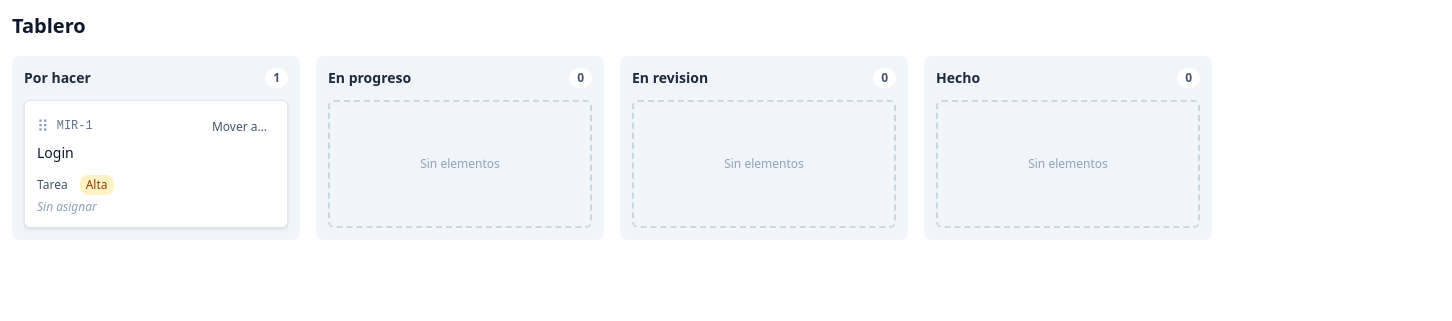
Test: KanbanBoard › mover tarjetas con el menu "Mover a…" (MIR-19) › un movimiento exitoso posterior limpia el error anterior
This screenshot has width=1452, height=321.
Click the button "Mover a…". click: (239, 127)
box: [204,115,275,139]
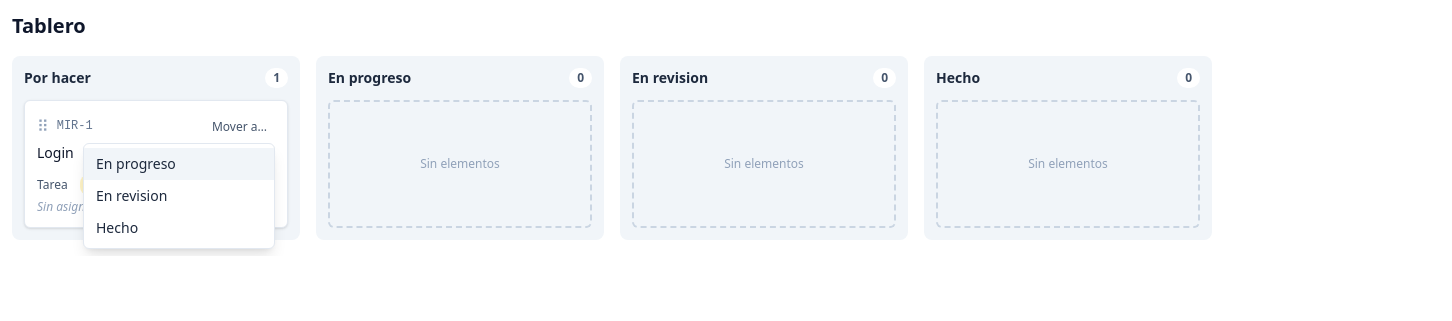
Click the menu item "Hecho". click: (179, 228)
box: [84,212,274,244]
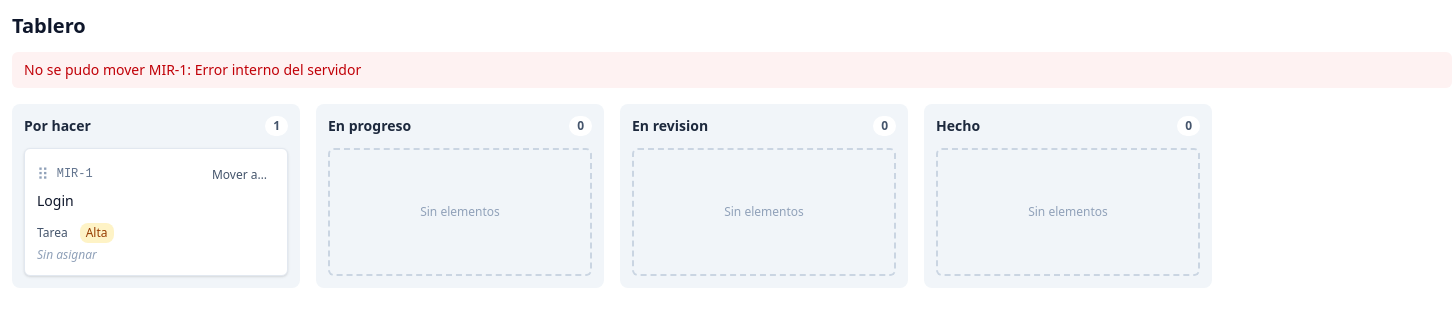
Expected: the message "No se pudo mover MIR-1: Error interno del servidor" is shown, [12,52,1451,88]
Click the button "Mover a…". click: (239, 175)
box: [204,163,275,187]
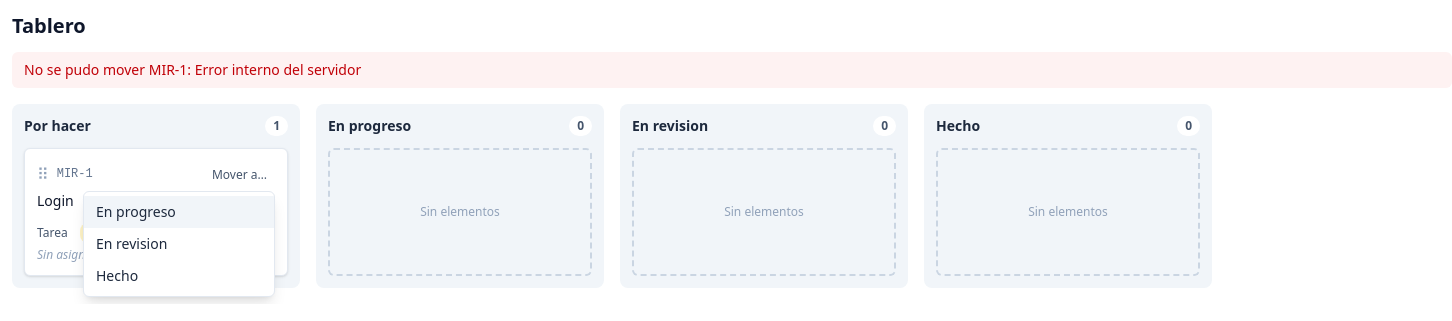
Click the menu item "En progreso". click: (179, 212)
box: [84,196,274,228]
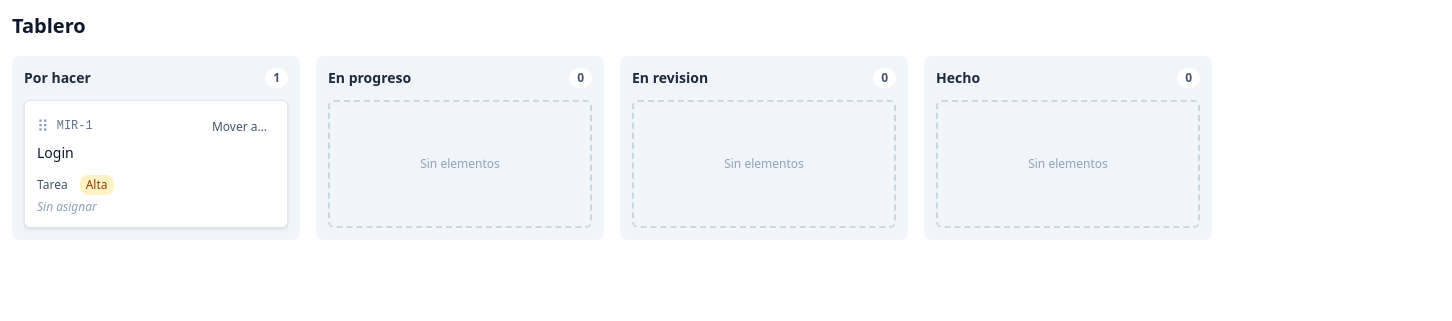
Expected: the message "No se pudo mover MIR-1: Error interno del servidor" is gone
